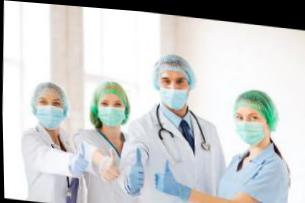OK: (235, 104, 265, 144), (34, 94, 65, 132), (97, 93, 126, 128)
WRONG: (160, 71, 190, 110)
